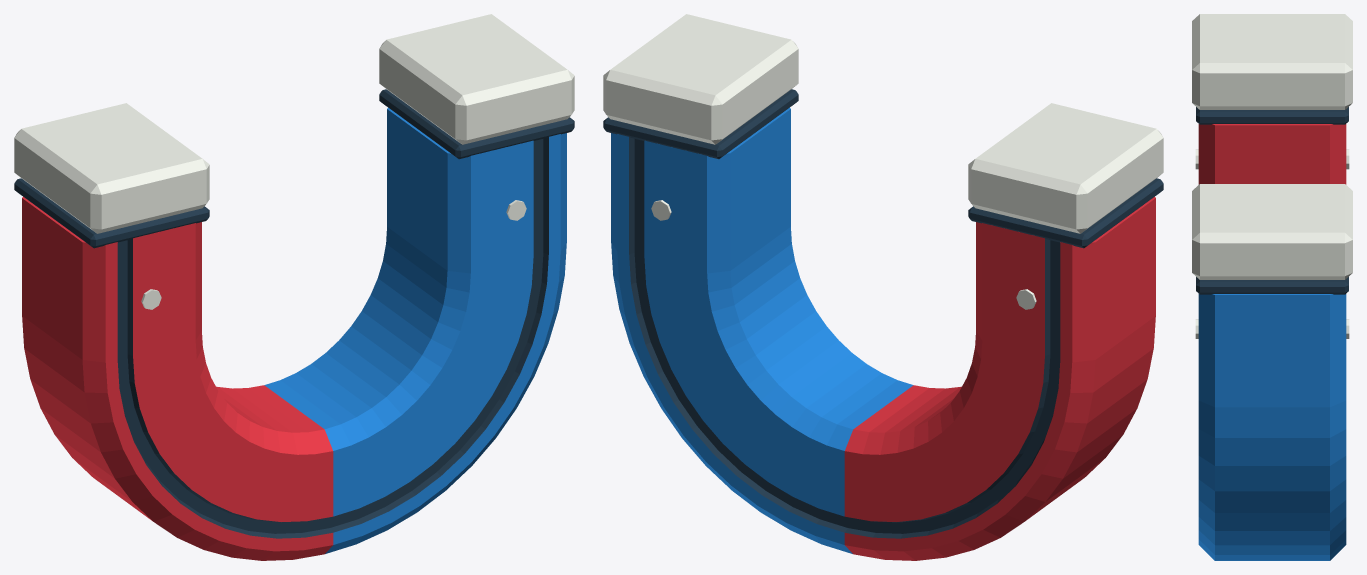
File: magnet.glb
3 renders of one model, left to right at view 1: azimuth 30°, elevation 25°; view 2: azimuth 150°, elevation 25°; view 3: azimuth 270°, elevation 25°, orthographic. The views are drawn at different scales.
Parts seen in each view (by area): view 1: Coastal original magnet | red-blue U; view 2: Coastal original magnet | red-blue U; view 3: Coastal original magnet | red-blue U.
Part boxes in pixels (x1,y1,x2,y2): Coastal original magnet | red-blue U: [14, 14, 574, 560]; Coastal original magnet | red-blue U: [603, 14, 1163, 560]; Coastal original magnet | red-blue U: [1192, 14, 1352, 560].
Bounding box in the file's own units: 0.8196 × 0.7 × 0.2471.
